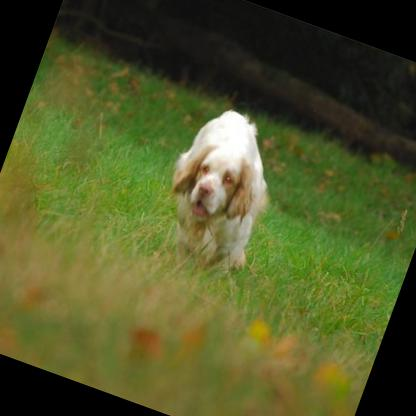clumber: (142, 97, 292, 285)
